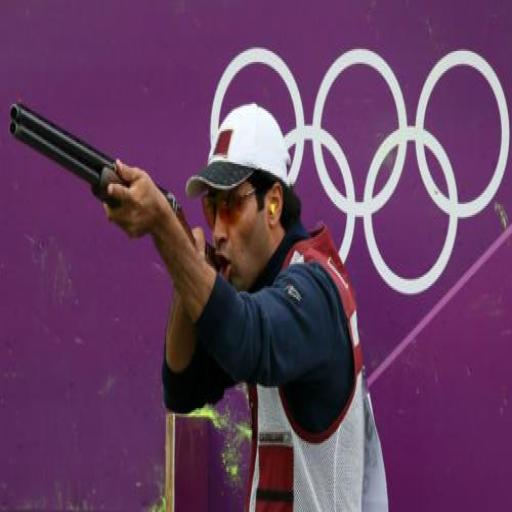shooting: (95, 100, 391, 510)
